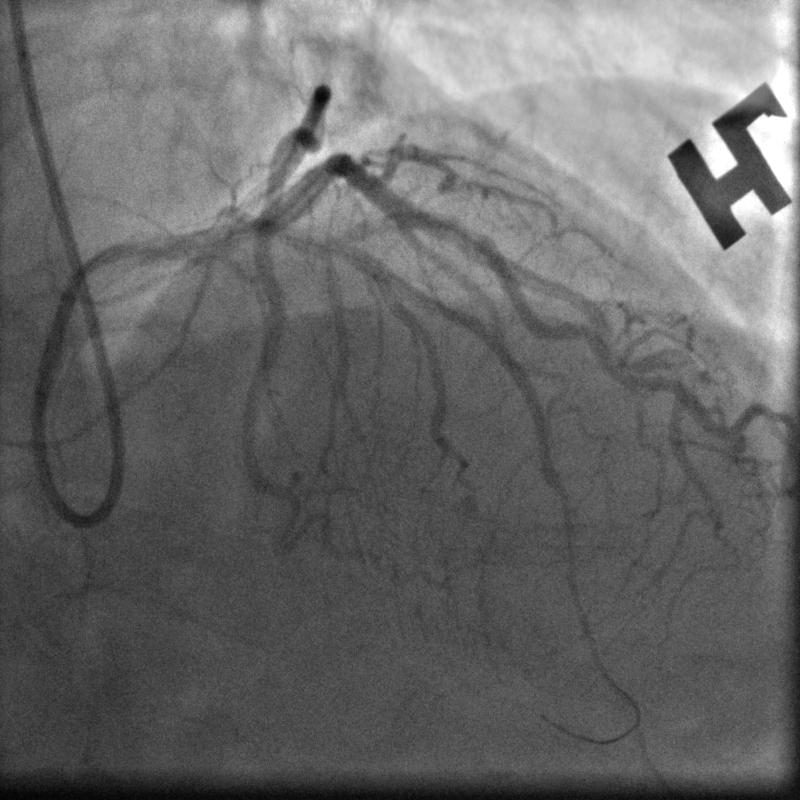Stenosis: (442, 214, 488, 257)
